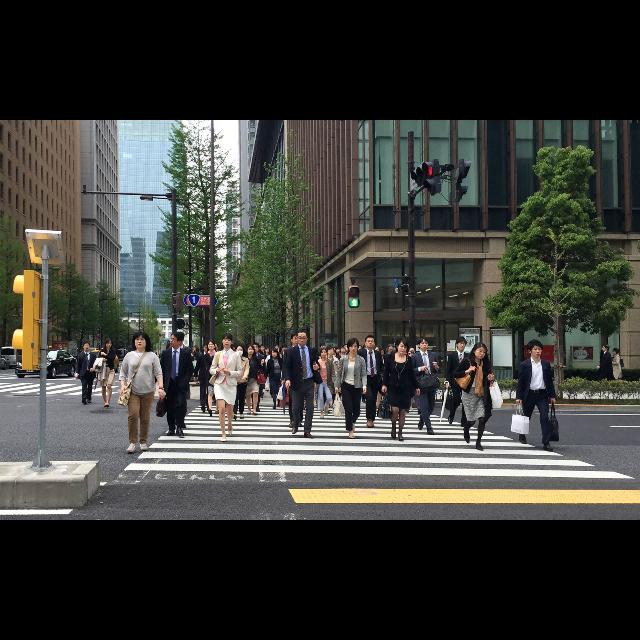head: (134, 332, 148, 350), (473, 342, 487, 360), (528, 342, 542, 358), (170, 332, 184, 346), (222, 332, 234, 348), (297, 330, 309, 346), (396, 338, 408, 354), (417, 337, 429, 351), (348, 338, 358, 354), (364, 336, 376, 348), (291, 332, 301, 346), (457, 338, 468, 350), (235, 346, 243, 358), (203, 342, 211, 353), (82, 342, 90, 352), (105, 338, 113, 348), (208, 340, 216, 350), (247, 346, 255, 356), (252, 343, 260, 353), (270, 348, 278, 358), (320, 348, 328, 358), (326, 345, 334, 355), (602, 344, 610, 352), (612, 348, 620, 356)
person: (115, 329, 167, 455), (509, 338, 561, 454), (452, 341, 506, 451), (376, 336, 422, 442), (152, 330, 195, 440), (284, 328, 324, 439), (208, 331, 244, 443), (275, 332, 315, 430), (332, 336, 368, 440), (410, 336, 444, 436), (438, 336, 474, 430), (354, 333, 386, 429), (92, 337, 120, 409), (242, 344, 268, 418), (312, 346, 338, 420), (201, 339, 225, 419), (193, 339, 217, 415), (228, 343, 250, 421), (74, 340, 98, 406), (321, 344, 343, 416), (248, 341, 268, 415), (265, 345, 287, 411), (596, 342, 614, 393), (610, 347, 626, 393)
